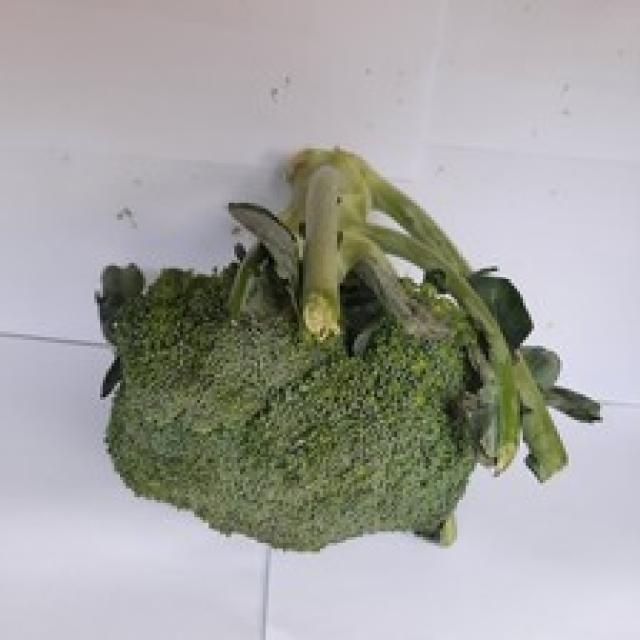broccoli: (102, 145, 616, 549)
